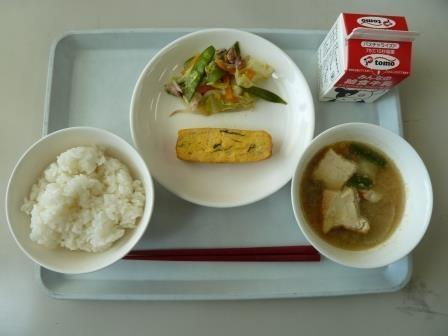Bread: (174, 118, 281, 176)
Milk: (312, 6, 425, 101)
Rice: (9, 126, 150, 262)
Soups: (292, 126, 430, 260)
salad with sauce: (158, 40, 295, 120)
